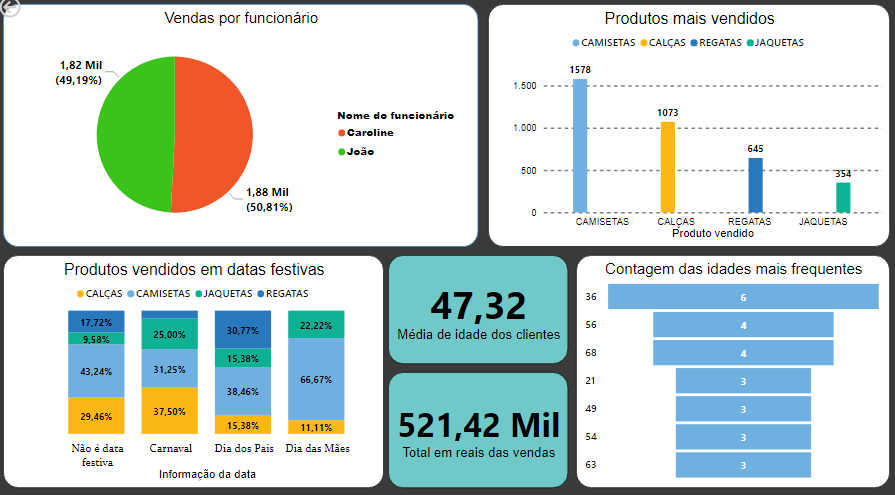

This screenshot's page, from the dashboard's own definition file:
{"tool":"powerbi","page":{"name":"Página 1","canvas":[1280,720],"ordinal":0},"visuals":[{"type":"funnel","title":"Contagem das idades mais frequentes","fields":{"Category":["public dim_cliente.idade_cliente"],"Y":["CountNonNull(public dim_cliente.idade_cliente)"]},"box":[823.7,372.1,455.9,330.9],"z":0},{"type":"pieChart","title":"Vendas por funcionário","fields":{"Category":["public dim_funcionarios.nome_funcionario"],"Y":["Sum(public dim_funcionarios.num_vendas)"]},"box":[0,15.6,684.5,345.1],"z":1000},{"type":"card","title":"Média de idade dos clientes","fields":{"Values":["Avg(public dim_cliente.idade_cliente)"]},"box":[556.7,372.1,255.6,154.8],"z":2000},{"type":"clusteredColumnChart","title":"Produtos mais vendidos","fields":{"Category":["public ft_vendas.dd_prod_vendido - Copiar"],"Y":["CountNonNull(public ft_vendas.dd_prod_vendido - Copiar)"],"Series":["public ft_vendas.dd_prod_vendido - Copiar"]},"box":[698.7,15.6,580.8,345.1],"z":3000},{"type":"actionButton","box":[0,0,100,40],"z":4000},{"type":"hundredPercentStackedColumnChart","title":"Produtos vendidos em datas festivas","fields":{"Category":["public dim_data.dt_festiva"],"Series":["public ft_vendas.dd_prod_vendido - Copiar"],"Y":["CountNonNull(public ft_vendas.dd_prod_vendido - Copiar)"]},"box":[0,372.1,551,330.9],"z":5000},{"type":"card","fields":{"Values":["Sum(public ft_vendas.md_valor_venda)"]},"box":[556.7,538.2,255.6,164.7],"z":6000}]}

Visuals, with their boxes in screenshot pixels (x1, y1, x2, y2), scaled from the page's 1280x720 canvas onto the 895x495 screenshot:
"Contagem das idades mais frequentes" funnel: [x1=576, y1=256, x2=894, y2=483]
"Vendas por funcionário" pieChart: [x1=0, y1=11, x2=479, y2=248]
"Média de idade dos clientes" card: [x1=389, y1=256, x2=568, y2=362]
"Produtos mais vendidos" clusteredColumnChart: [x1=489, y1=11, x2=894, y2=248]
actionButton: [x1=0, y1=0, x2=70, y2=28]
"Produtos vendidos em datas festivas" hundredPercentStackedColumnChart: [x1=0, y1=256, x2=385, y2=483]
card - Sum(public ft_vendas.md_valor_venda): [x1=389, y1=370, x2=568, y2=483]
